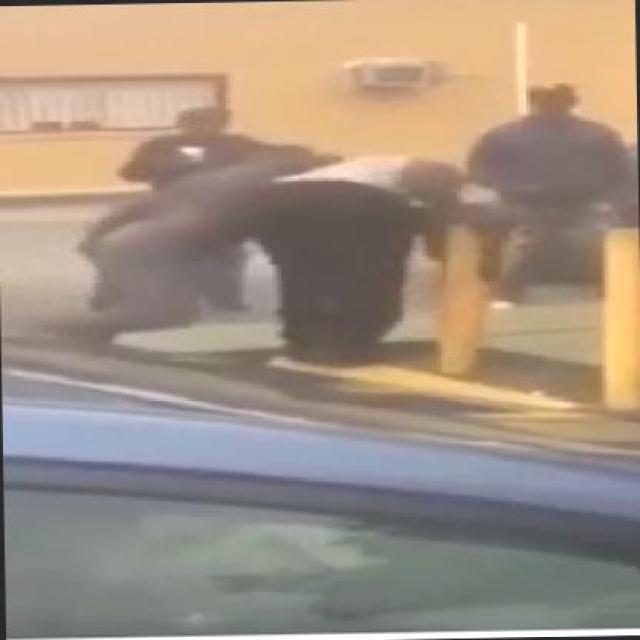fight: (66, 133, 519, 376)
non-fight: (458, 77, 636, 311)
